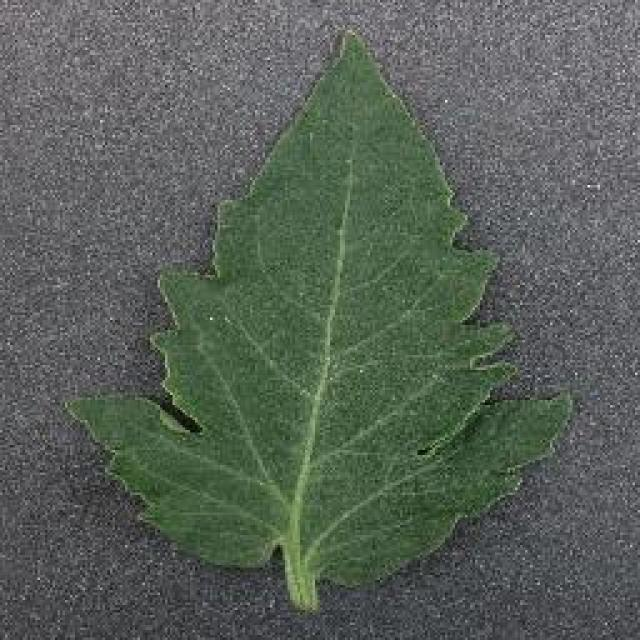Tomato___healthy: (53, 23, 573, 614)
